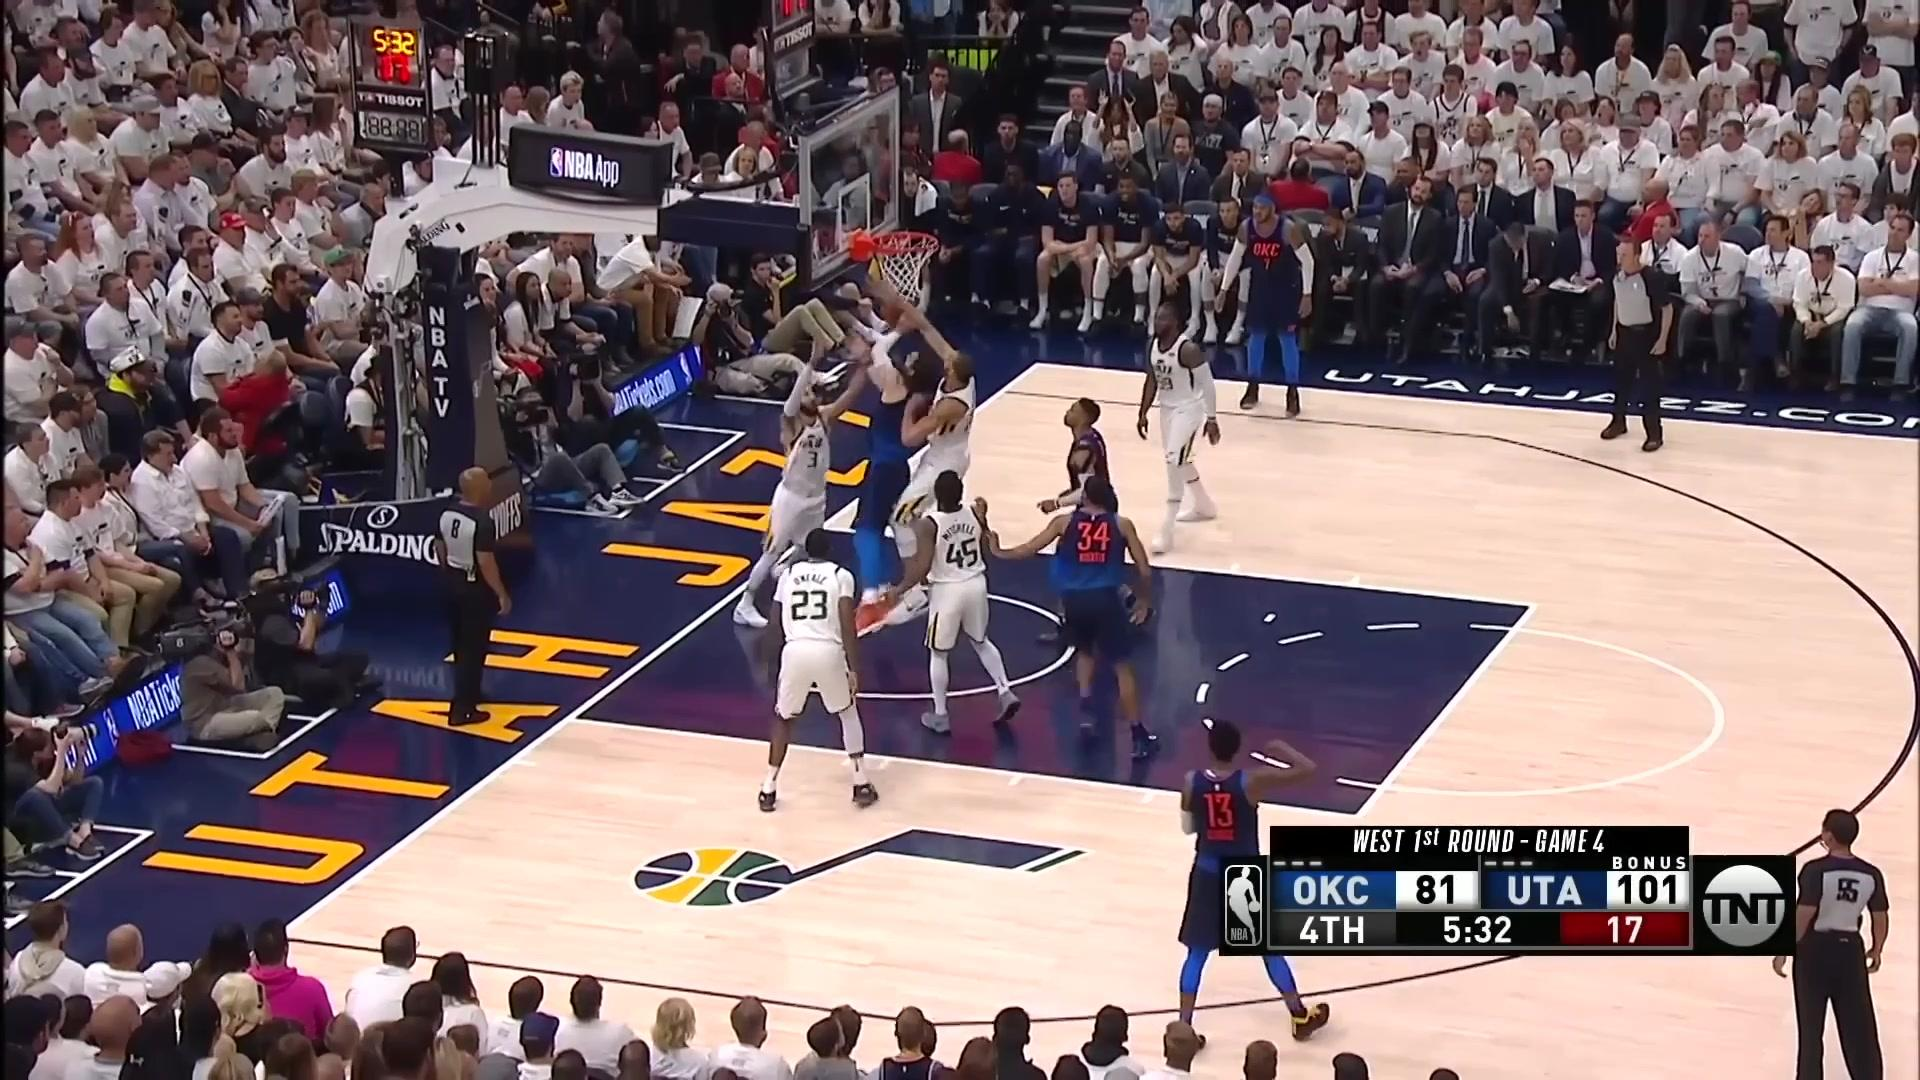foul: (767, 294, 976, 662)
